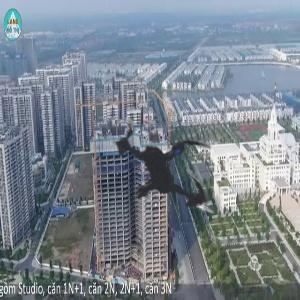drone: (54, 62, 270, 278)
